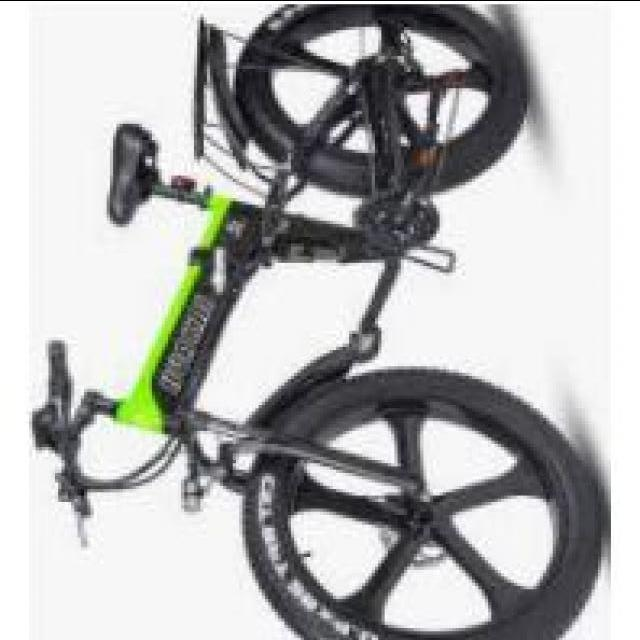bicycle: (63, 10, 606, 637)
